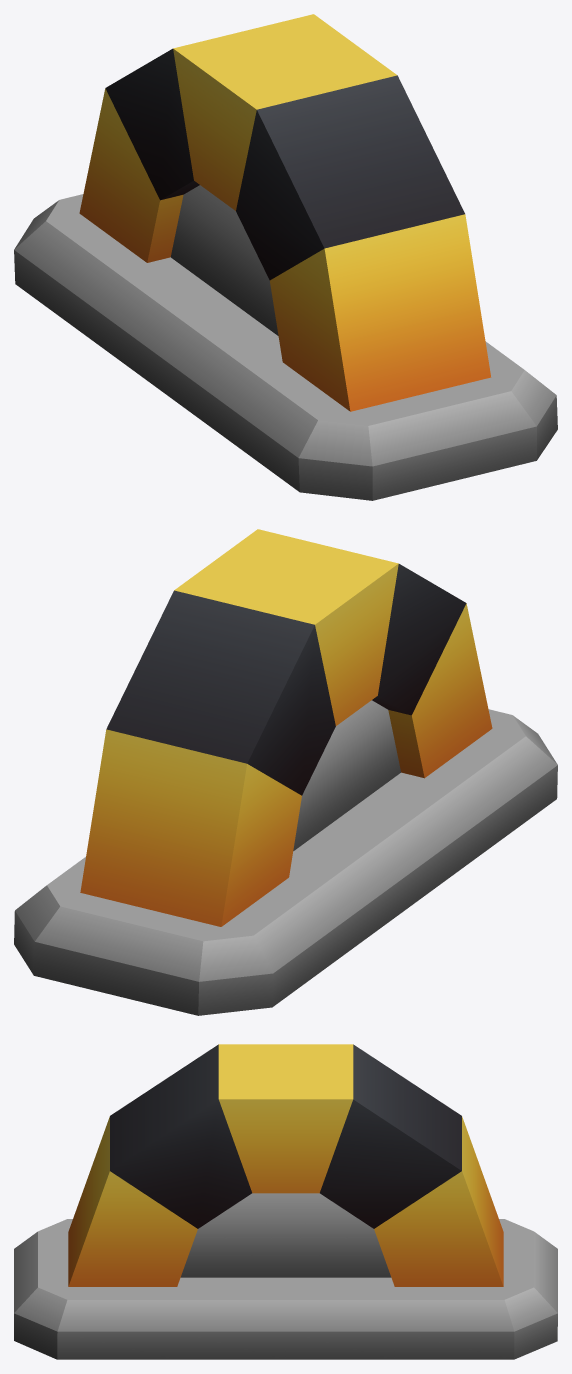
File: lever_base.glb
The picture shows the model from 3 angles, top to bottom: view 1: azimuth 30°, elevation 25°; view 2: azimuth 150°, elevation 25°; view 3: azimuth 270°, elevation 25°; orthographic projection. The views are drawn at different scales.
Visible parts, largest first — view 1: LeverBase_Material #27_0; view 2: LeverBase_Material #27_0; view 3: LeverBase_Material #27_0.
Part boxes in pixels (left/top/right/bottom): LeverBase_Material #27_0: left=14, top=14, right=557, bottom=500; LeverBase_Material #27_0: left=14, top=529, right=557, bottom=1015; LeverBase_Material #27_0: left=14, top=1044, right=557, bottom=1359.
Size of the model in its own units: 0.5523 by 0.6005 by 1.25.
Materials: 1 (1 with a texture image).
